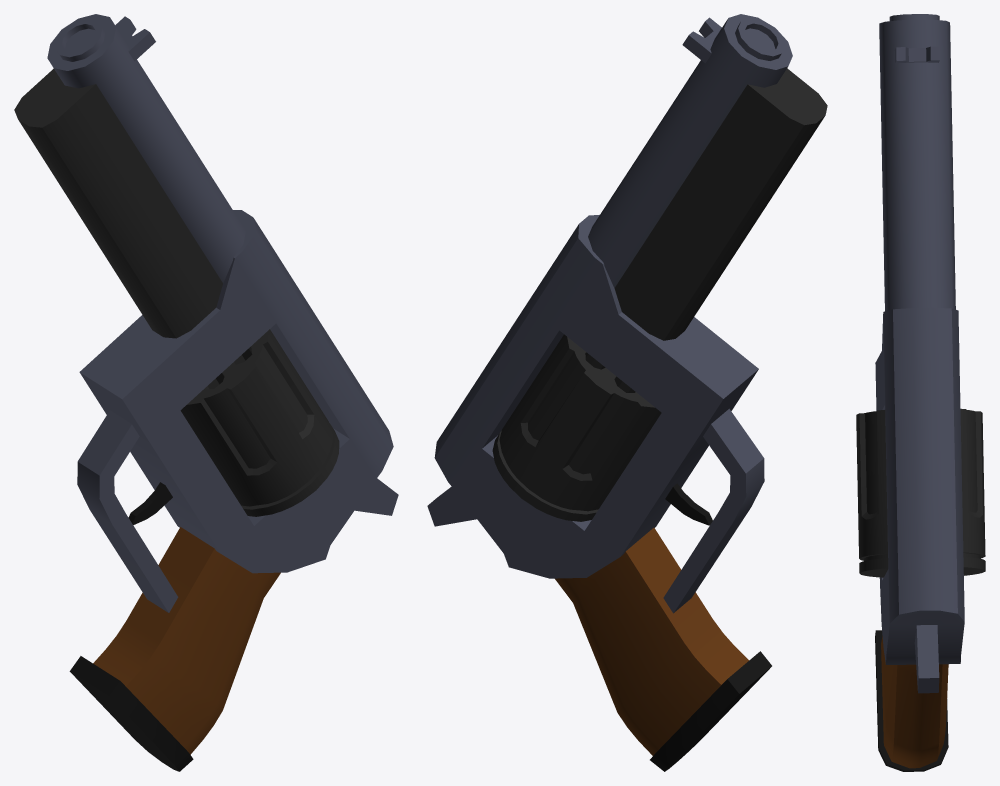
The model's file is gun.obj.
The picture shows the model from 3 angles, left to right: view 1: azimuth 30°, elevation 25°; view 2: azimuth 150°, elevation 25°; view 3: azimuth 270°, elevation 25°; orthographic projection. The views are drawn at different scales.
Visible parts, largest first — view 1: Revolver_gun; view 2: Revolver_gun; view 3: Revolver_gun.
Part boxes in pixels (x1,y1,x2,y2): Revolver_gun: [14, 14, 398, 771]; Revolver_gun: [427, 14, 827, 771]; Revolver_gun: [856, 14, 985, 771].
Bounding box in the file's own units: 50.84 × 97.41 × 15.76.
